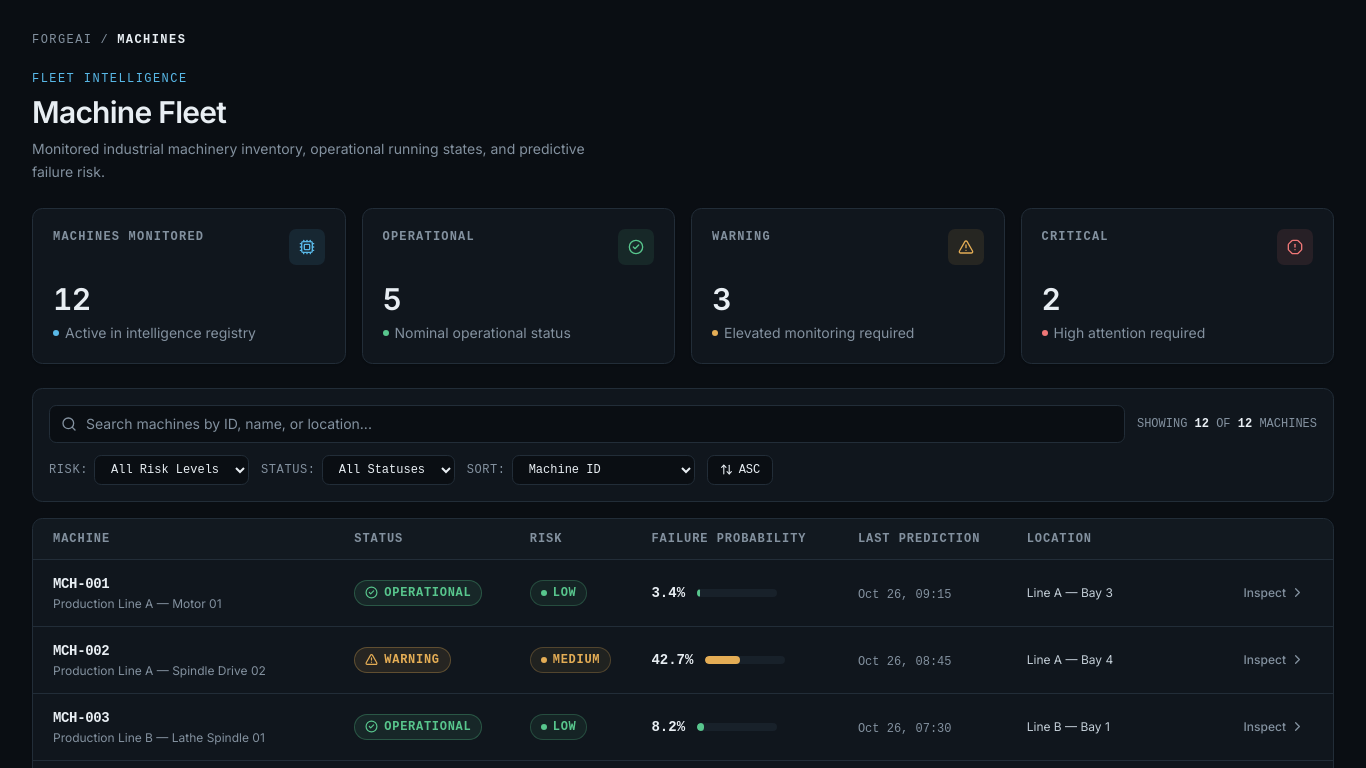
Scenario: Machine Fleet Experience (Part 8) › filters machines by operational status
Note: Filter to CRITICAL status
Select "Critical" in the dropdown named "Filter machines by operational status" at (388, 470), box [322,454,455,484]
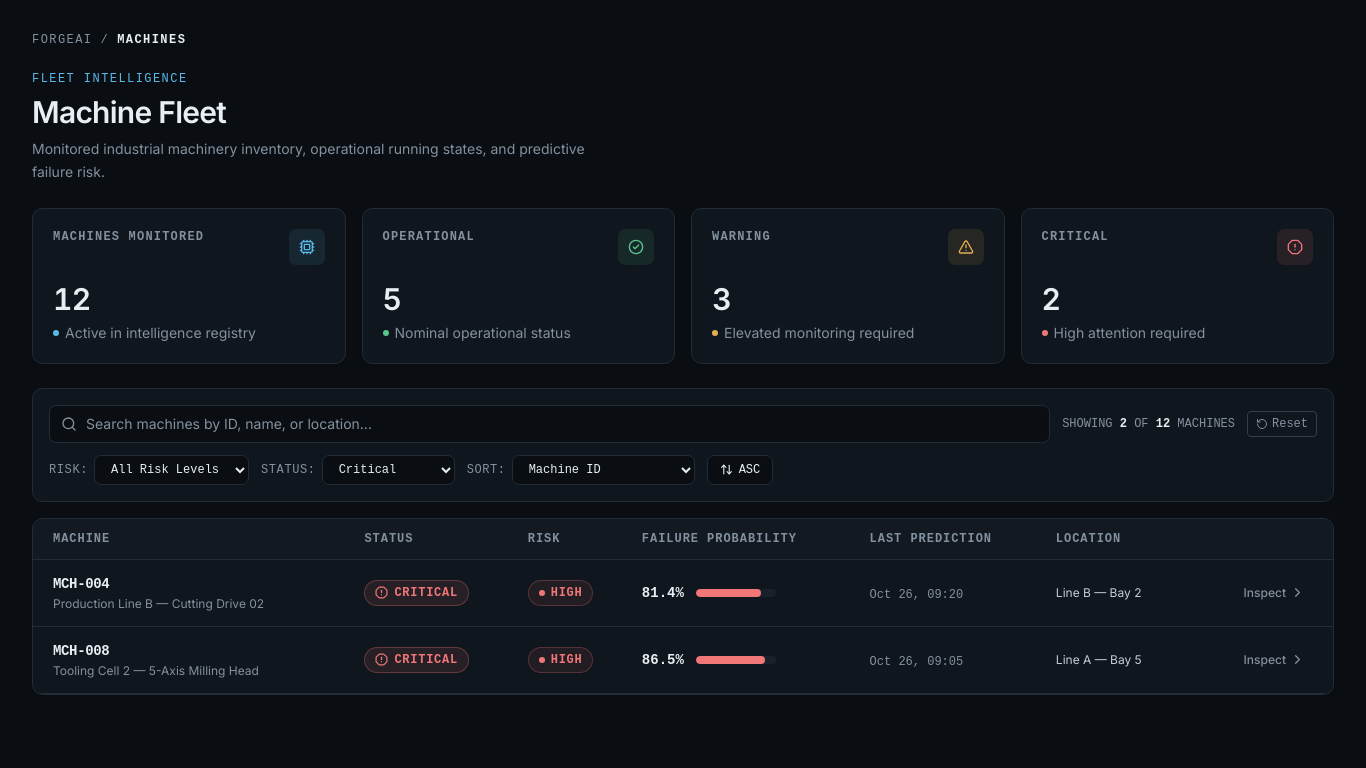
Expected: the text "MCH-004" is shown, [53,576,109,592]
Result: the text "MCH-001" is gone
Note: Filter to OFFLINE status
Select "Offline" in the dropdown named "Filter machines by operational status" at (388, 470), box [322,454,455,484]
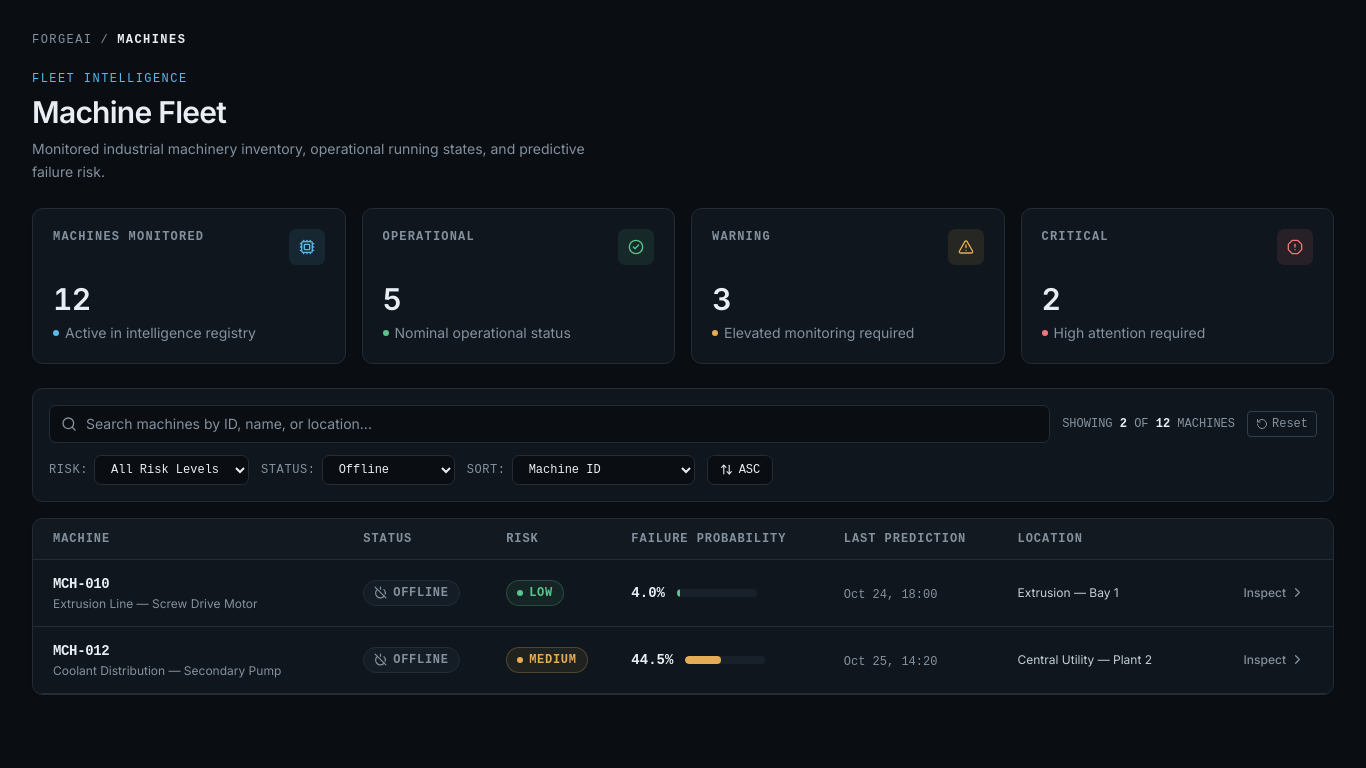
Result: the text "MCH-010" is shown at [53,576,109,592]
Result: the text "MCH-012" is shown at [53,642,109,658]
Result: the text "MCH-004" is gone
